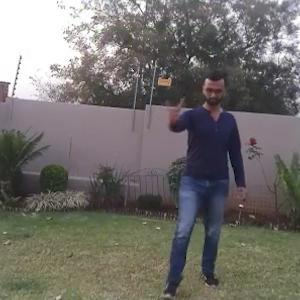takeoff-hand: (158, 96, 187, 124)
